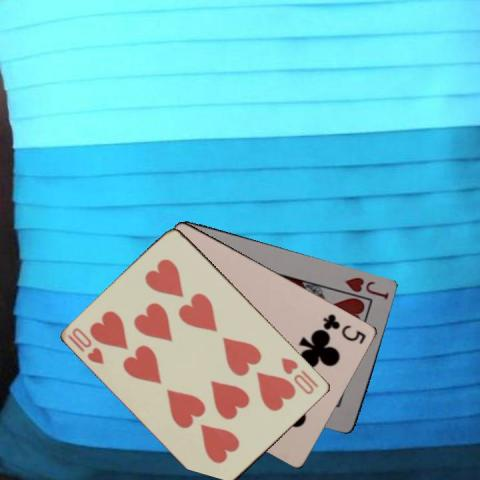10h: (278, 354, 321, 396), (65, 325, 106, 366)
5c: (321, 311, 368, 346)
Jh: (341, 274, 391, 301)
